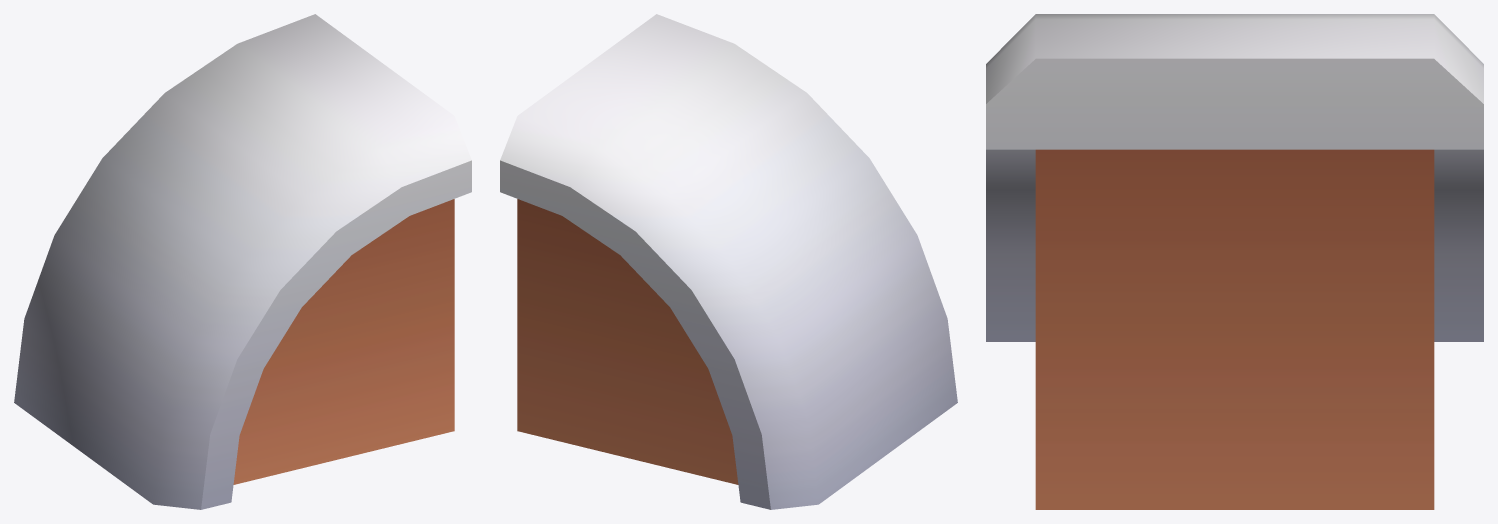
File: kenney-platformer-block-snow-curve-half.glb
The picture shows the model from 3 angles, left to right: view 1: azimuth 30°, elevation 25°; view 2: azimuth 150°, elevation 25°; view 3: azimuth 270°, elevation 25°; orthographic projection. The views are drawn at different scales.
Parts seen in each view (by area): view 1: block-snow-curve-half; view 2: block-snow-curve-half; view 3: block-snow-curve-half.
Part boxes in pixels (bbox=[...]): block-snow-curve-half: bbox=[14, 14, 471, 509]; block-snow-curve-half: bbox=[500, 14, 957, 509]; block-snow-curve-half: bbox=[986, 14, 1483, 509].
Bounding box in the file's own units: 1 × 1 × 1.
Materials: 1 (1 with a texture image).
